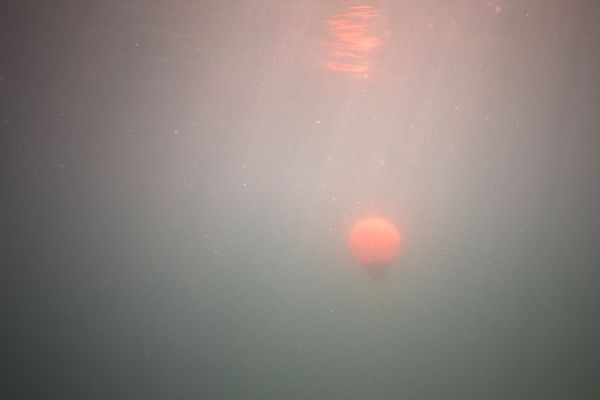buoy: (349, 219, 399, 279)
